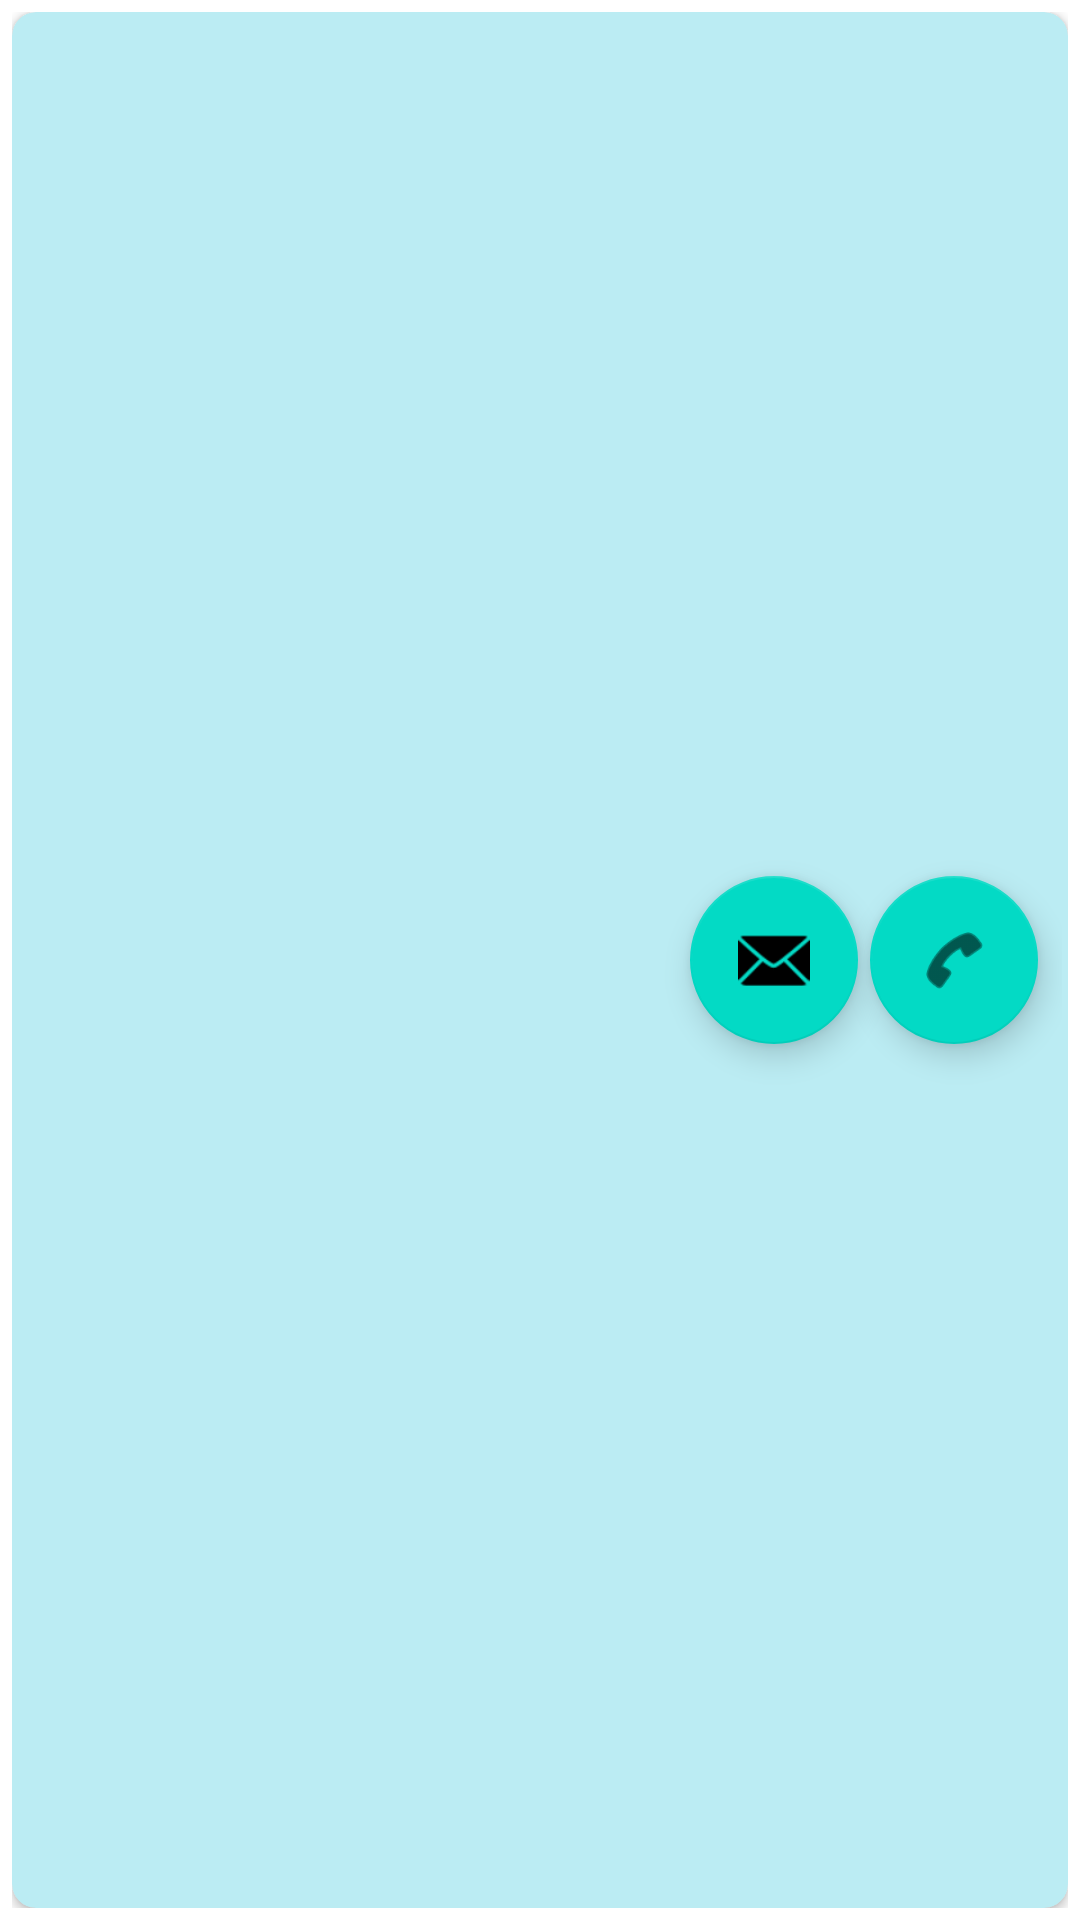

Icons on this 1080x1920 Android screen, each with the point to tap as point (x, y):
call: point (954, 960)
email: point (774, 960)
